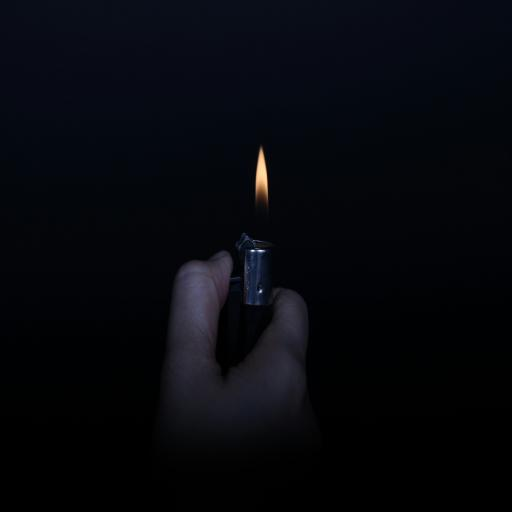lighter: (209, 135, 312, 391)
